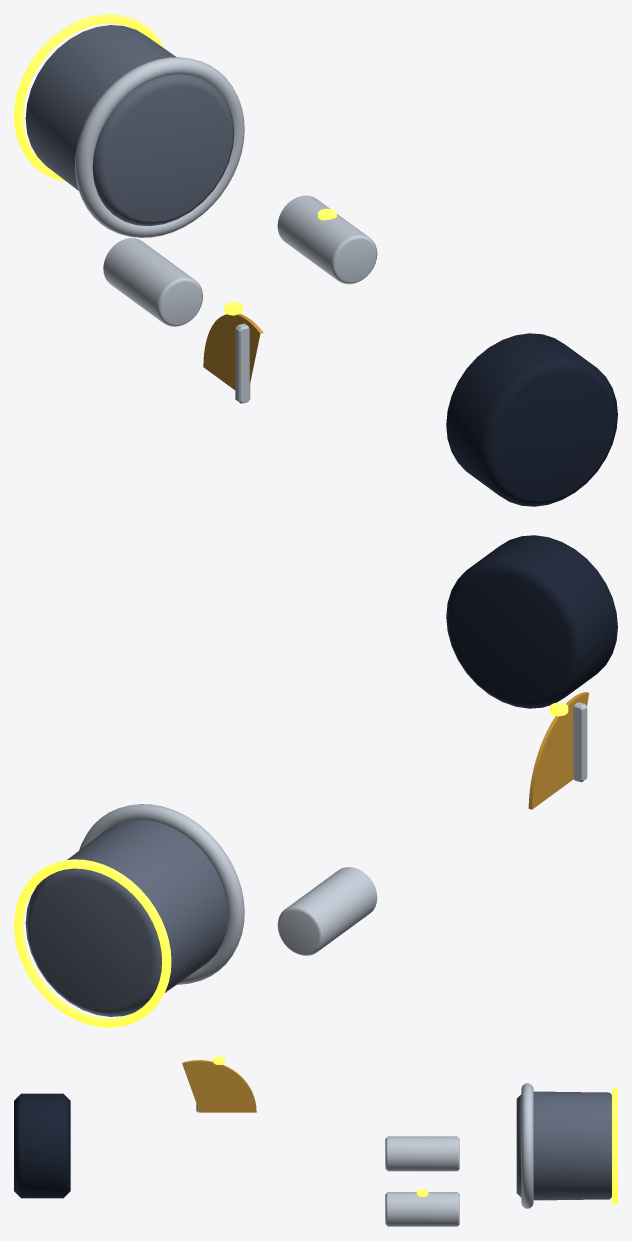
Rendered from tower_nova_range_s4.glb.
3 views of the same model, one above another, from view 1: azimuth 30°, elevation 25°; view 2: azimuth 150°, elevation 25°; view 3: azimuth 270°, elevation 25° (orthographic). The views are drawn at different scales.
Parts seen in each view (by area): view 1: nova_tube_extension, nova_counterweight, nova_tube_collar, nova_recup_ext_r, nova_recup_ext_l, nova_tube_ext_glow, nova_quadrant_plate, nova_quadrant_pointer; view 2: nova_tube_extension, nova_counterweight, nova_recup_ext_r, nova_tube_collar, nova_tube_ext_glow, nova_quadrant_plate, nova_quadrant_pointer; view 3: nova_tube_extension, nova_counterweight, nova_quadrant_plate, nova_recup_ext_r, nova_recup_ext_l, nova_tube_collar, nova_tube_ext_glow.
Boxes of the visible parts, x1,y1,x2,y2 form: nova_tube_extension: (25,25,234,226); nova_counterweight: (446,333,617,506); nova_tube_collar: (75,57,244,237); nova_recup_ext_r: (103,238,202,326); nova_recup_ext_l: (277,195,377,284); nova_tube_ext_glow: (14,14,163,181); nova_quadrant_plate: (203,314,263,389); nova_quadrant_pointer: (235,323,250,403); nova_tube_extension: (25,819,227,1016); nova_counterweight: (446,535,617,708); nova_recup_ext_r: (277,867,377,955); nova_tube_collar: (79,804,244,984); nova_tube_ext_glow: (14,859,171,1027); nova_quadrant_plate: (528,692,588,809); nova_quadrant_pointer: (573,702,587,782); nova_tube_extension: (516,1091,611,1200); nova_counterweight: (14,1093,70,1198); nova_quadrant_plate: (182,1060,256,1112); nova_recup_ext_r: (385,1136,459,1171); nova_recup_ext_l: (385,1192,459,1226); nova_tube_collar: (521,1083,533,1208); nova_tube_ext_glow: (612,1087,617,1204).
Bounding box in the file's own units: 0.9804 × 0.576 × 2.76.
